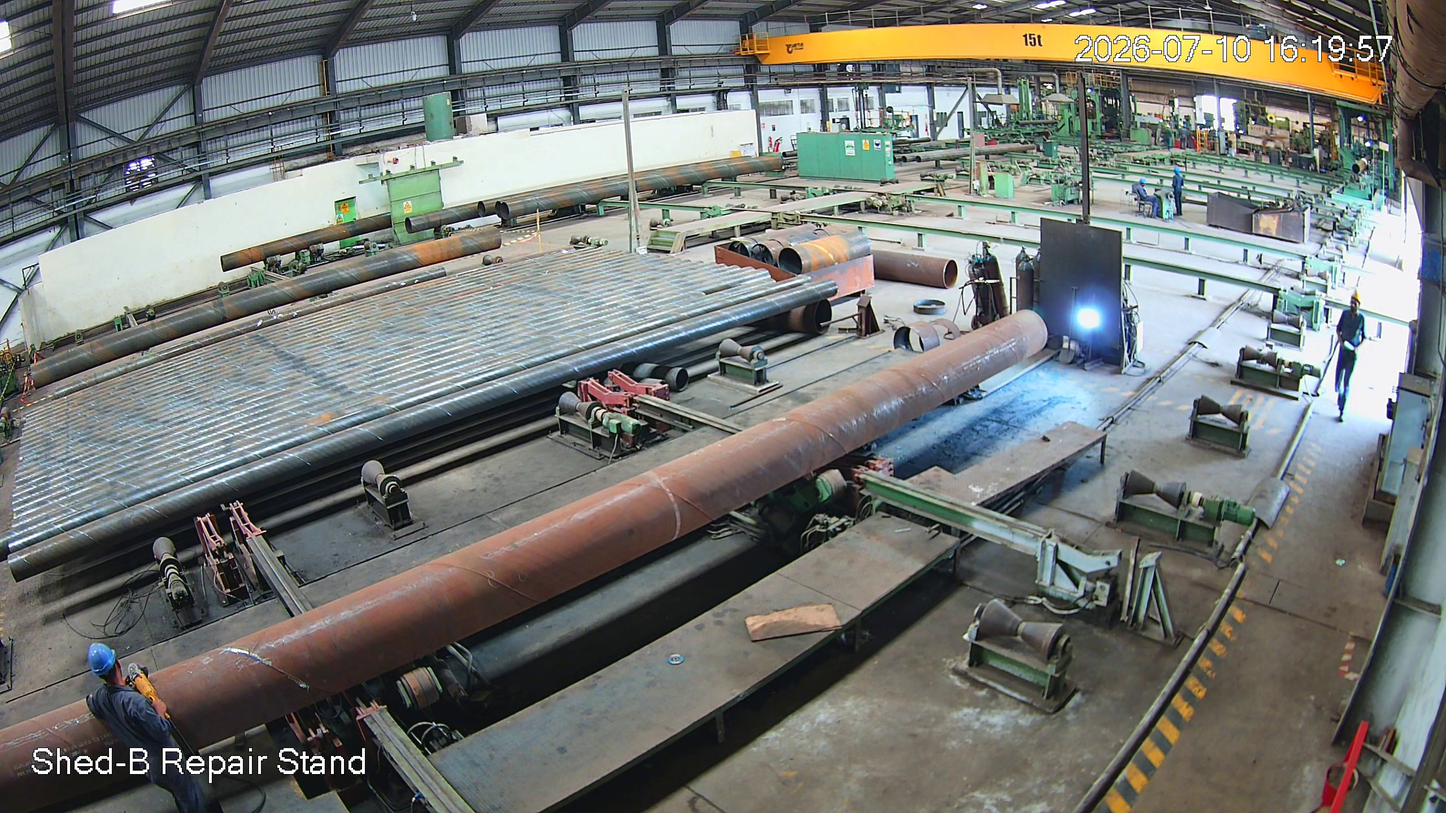Helmet: (82, 640, 145, 700), (1345, 286, 1369, 313)
Person: (73, 642, 252, 813), (1333, 292, 1366, 415)
